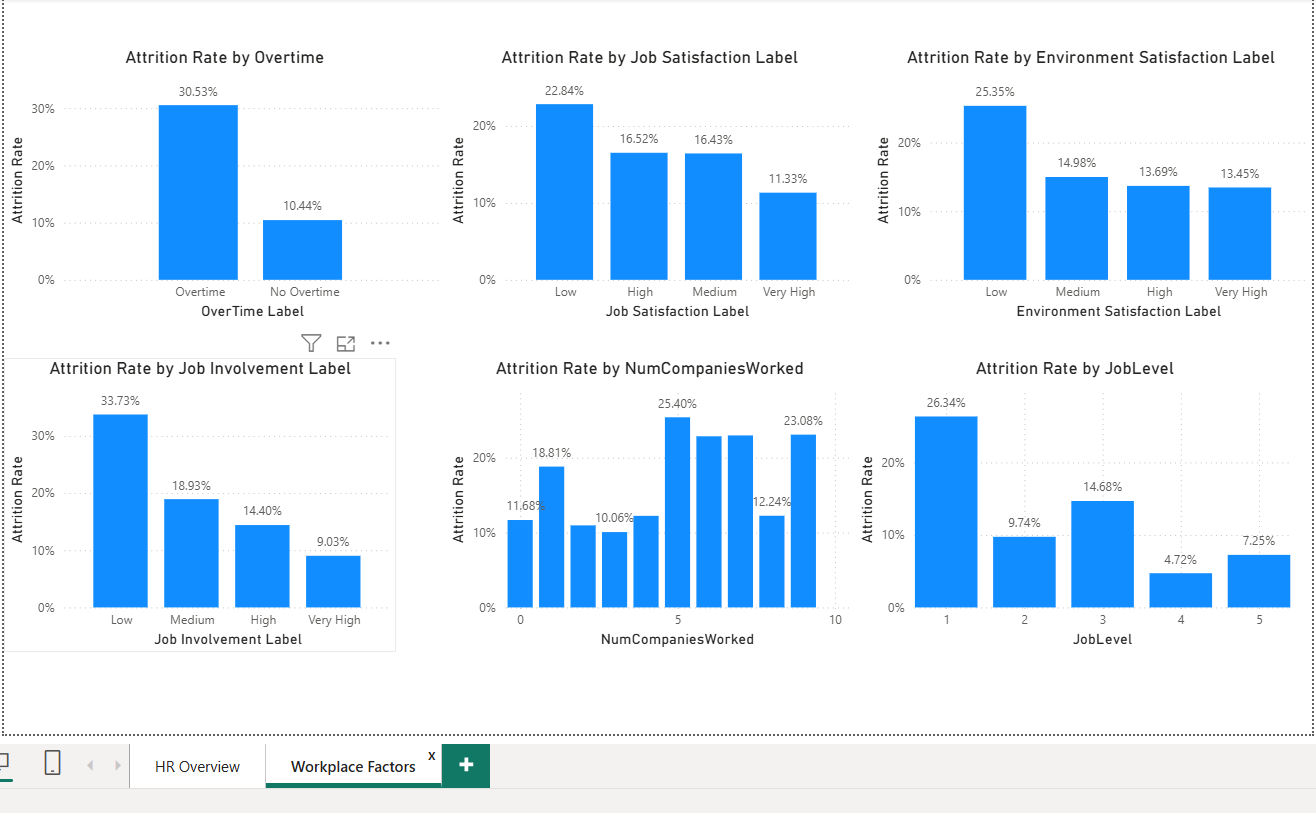

Layout of this report page (visuals, bound fields, positions):
{"tool":"powerbi","page":{"name":"Workplace Factors","canvas":[1280,720],"ordinal":1},"visuals":[{"type":"clusteredColumnChart","fields":{"Y":["A measure.Attrition Rate"],"Category":["HR_Employee_Attrition_Clean.Environment Satisfaction Label"]},"box":[848,48,432,272],"z":0},{"type":"clusteredColumnChart","fields":{"Category":["HR_Employee_Attrition_Clean.JobLevel"],"Y":["A measure.Attrition Rate"]},"box":[832,352,432,288],"z":1000},{"type":"clusteredColumnChart","fields":{"Category":["HR_Employee_Attrition_Clean.NumCompaniesWorked"],"Y":["A measure.Attrition Rate"]},"box":[432,352,400,288],"z":2000},{"type":"clusteredColumnChart","fields":{"Category":["HR_Employee_Attrition_Clean.Job Involvement Label"],"Y":["A measure.Attrition Rate"]},"box":[0,352,384,288],"z":3000},{"type":"clusteredColumnChart","fields":{"Category":["HR_Employee_Attrition_Clean.Job Satisfaction Label"],"Y":["A measure.Attrition Rate"]},"box":[432,48,400,272],"z":4000},{"type":"clusteredColumnChart","title":"Attrition Rate by Overtime","fields":{"Y":["A measure.Attrition Rate"],"Category":["HR_Employee_Attrition_Clean.OverTime Label"]},"box":[0,48,432,272],"z":5000}]}

Visuals, with their boxes on the page's 1280x720 design canvas (x1, y1, x2, y2). These are canvas units, not pixel positions in the 1316x813 screenshot, which may show the page scaled, cropped or inside an application window:
clusteredColumnChart - A measure.Attrition Rate x HR_Employee_Attrition_Clean.Environment Satisfaction Label: (left=848, top=48, right=1280, bottom=320)
clusteredColumnChart - HR_Employee_Attrition_Clean.JobLevel x A measure.Attrition Rate: (left=832, top=352, right=1264, bottom=640)
clusteredColumnChart - HR_Employee_Attrition_Clean.NumCompaniesWorked x A measure.Attrition Rate: (left=432, top=352, right=832, bottom=640)
clusteredColumnChart - HR_Employee_Attrition_Clean.Job Involvement Label x A measure.Attrition Rate: (left=0, top=352, right=384, bottom=640)
clusteredColumnChart - HR_Employee_Attrition_Clean.Job Satisfaction Label x A measure.Attrition Rate: (left=432, top=48, right=832, bottom=320)
"Attrition Rate by Overtime" clusteredColumnChart: (left=0, top=48, right=432, bottom=320)
